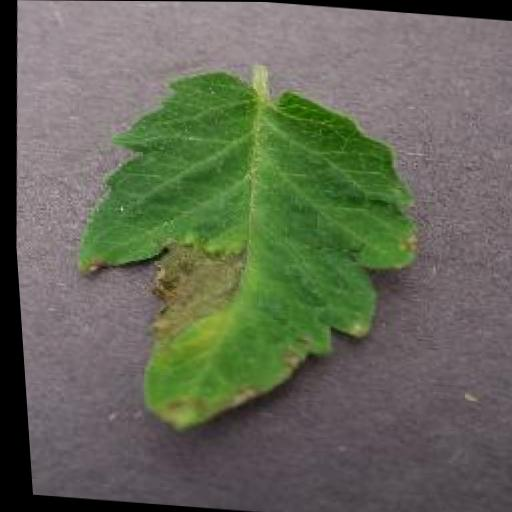Late Blight: (53, 58, 437, 453)
